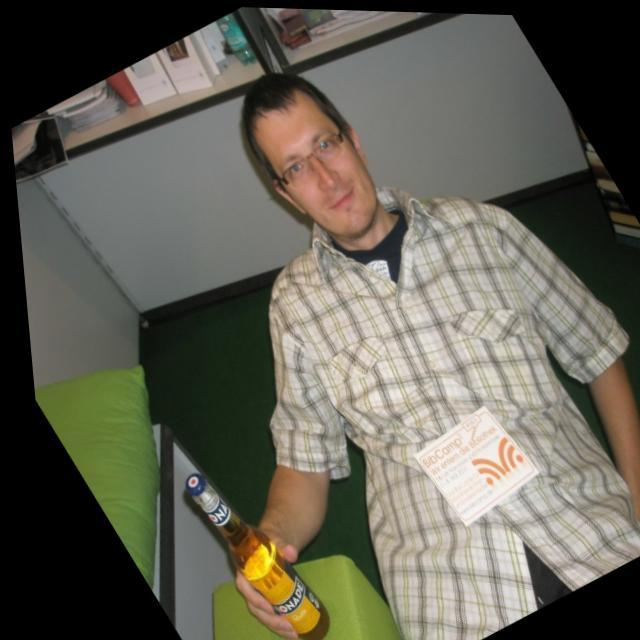Nonhelmet: (236, 68, 384, 240)
